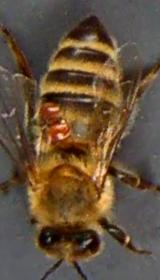varroa_mite: (37, 114, 82, 153), (33, 90, 75, 126)
